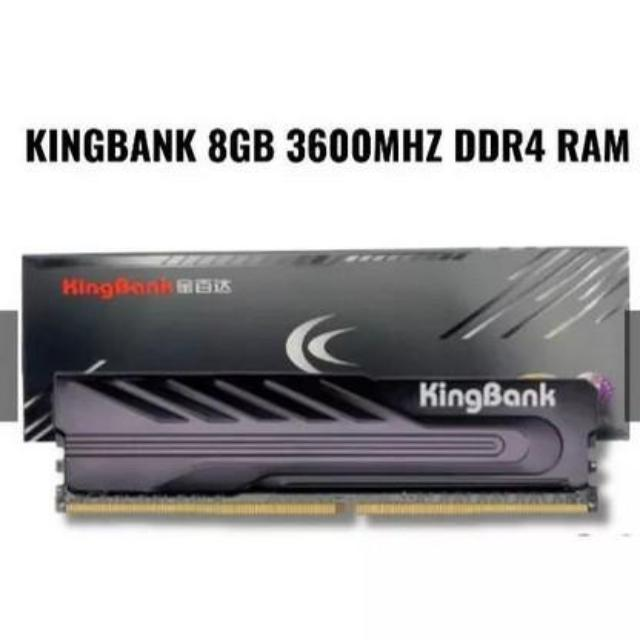RAM: (50, 366, 608, 526)
